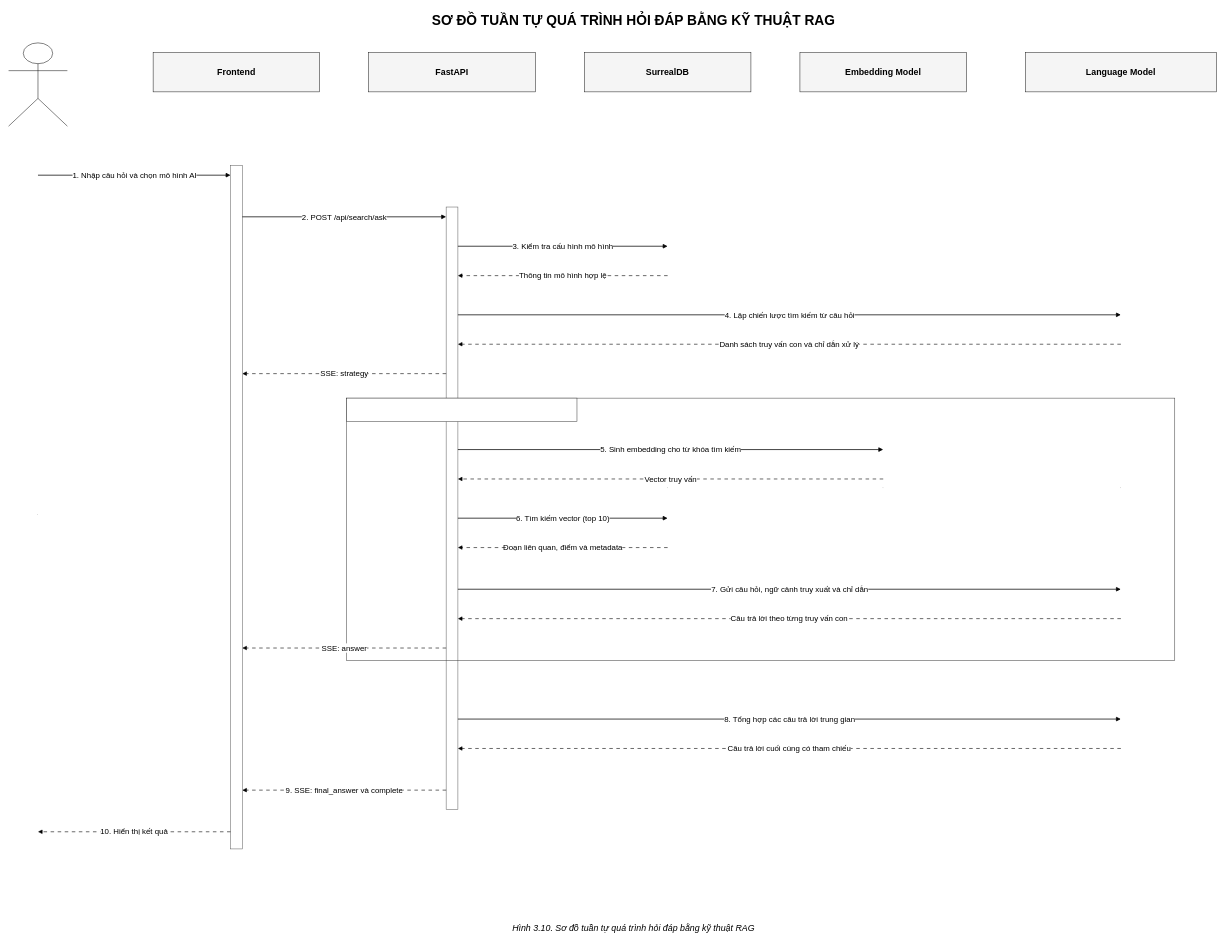
Some shapes in this 1225 by 948 pixel diagram are drawn without their labels. The shapes that lost their labels are listed below. From the top down, each one's box as (x1, y1, x2, y2) in pixels, then its label:
(8, 42, 67, 126): Người dùng
(346, 398, 577, 422): par [mỗi truy vấn con, tối đa 5]
